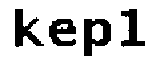1: (117, 4, 147, 50)
e: (46, 17, 80, 51)
k: (10, 6, 43, 48)
p: (80, 15, 116, 60)
